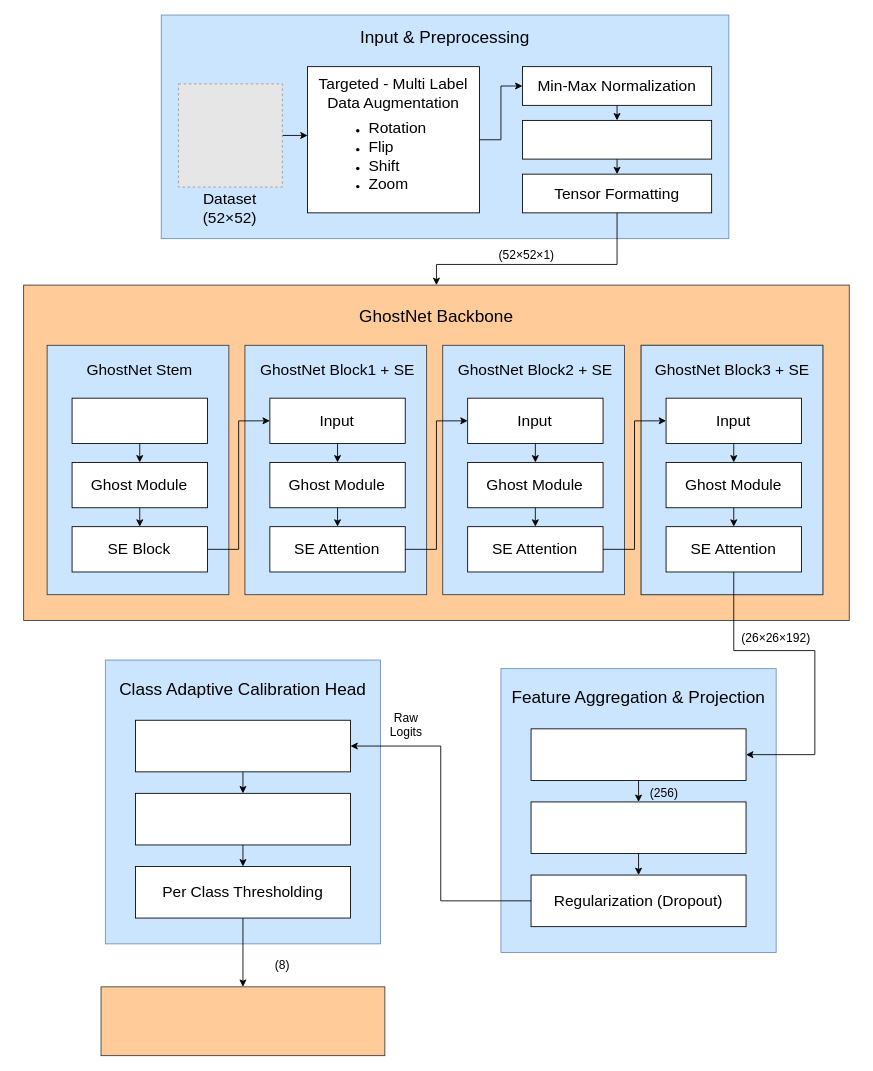
Some shapes in this 873 by 1071 pixel diagram are drawn without their labels. Grey dashed boxes stand in for pictures. Here are the shapes that lost their labels. From the top down, the centre of each, then its label:
At pixel 617 139: "Channel Expansion".
At pixel 139 420: "Standard Conv (3×3)".
At pixel 242 745: "Class Adaptive Calibration (α,β)".
At pixel 638 754: "Global Average Pooling".
At pixel 242 818: "Sigmoid".
At pixel 638 827: "Dense (256) + ReLU".
At pixel 242 1021: "Output Vector".
